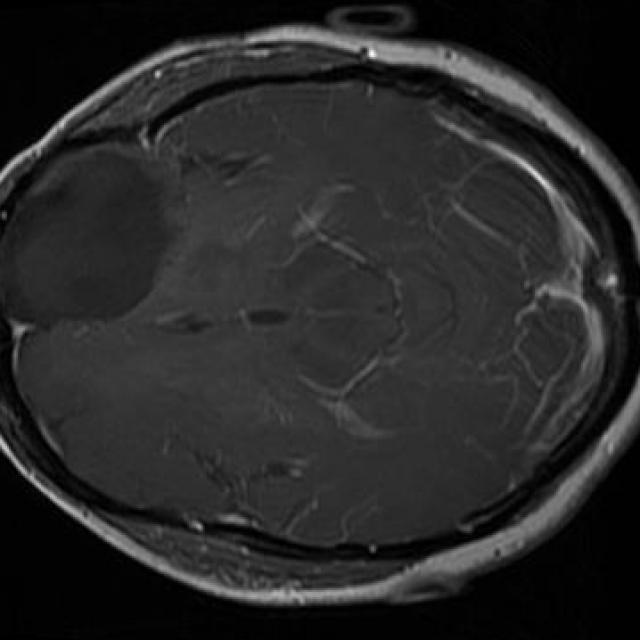glioma: (0, 148, 166, 337)
